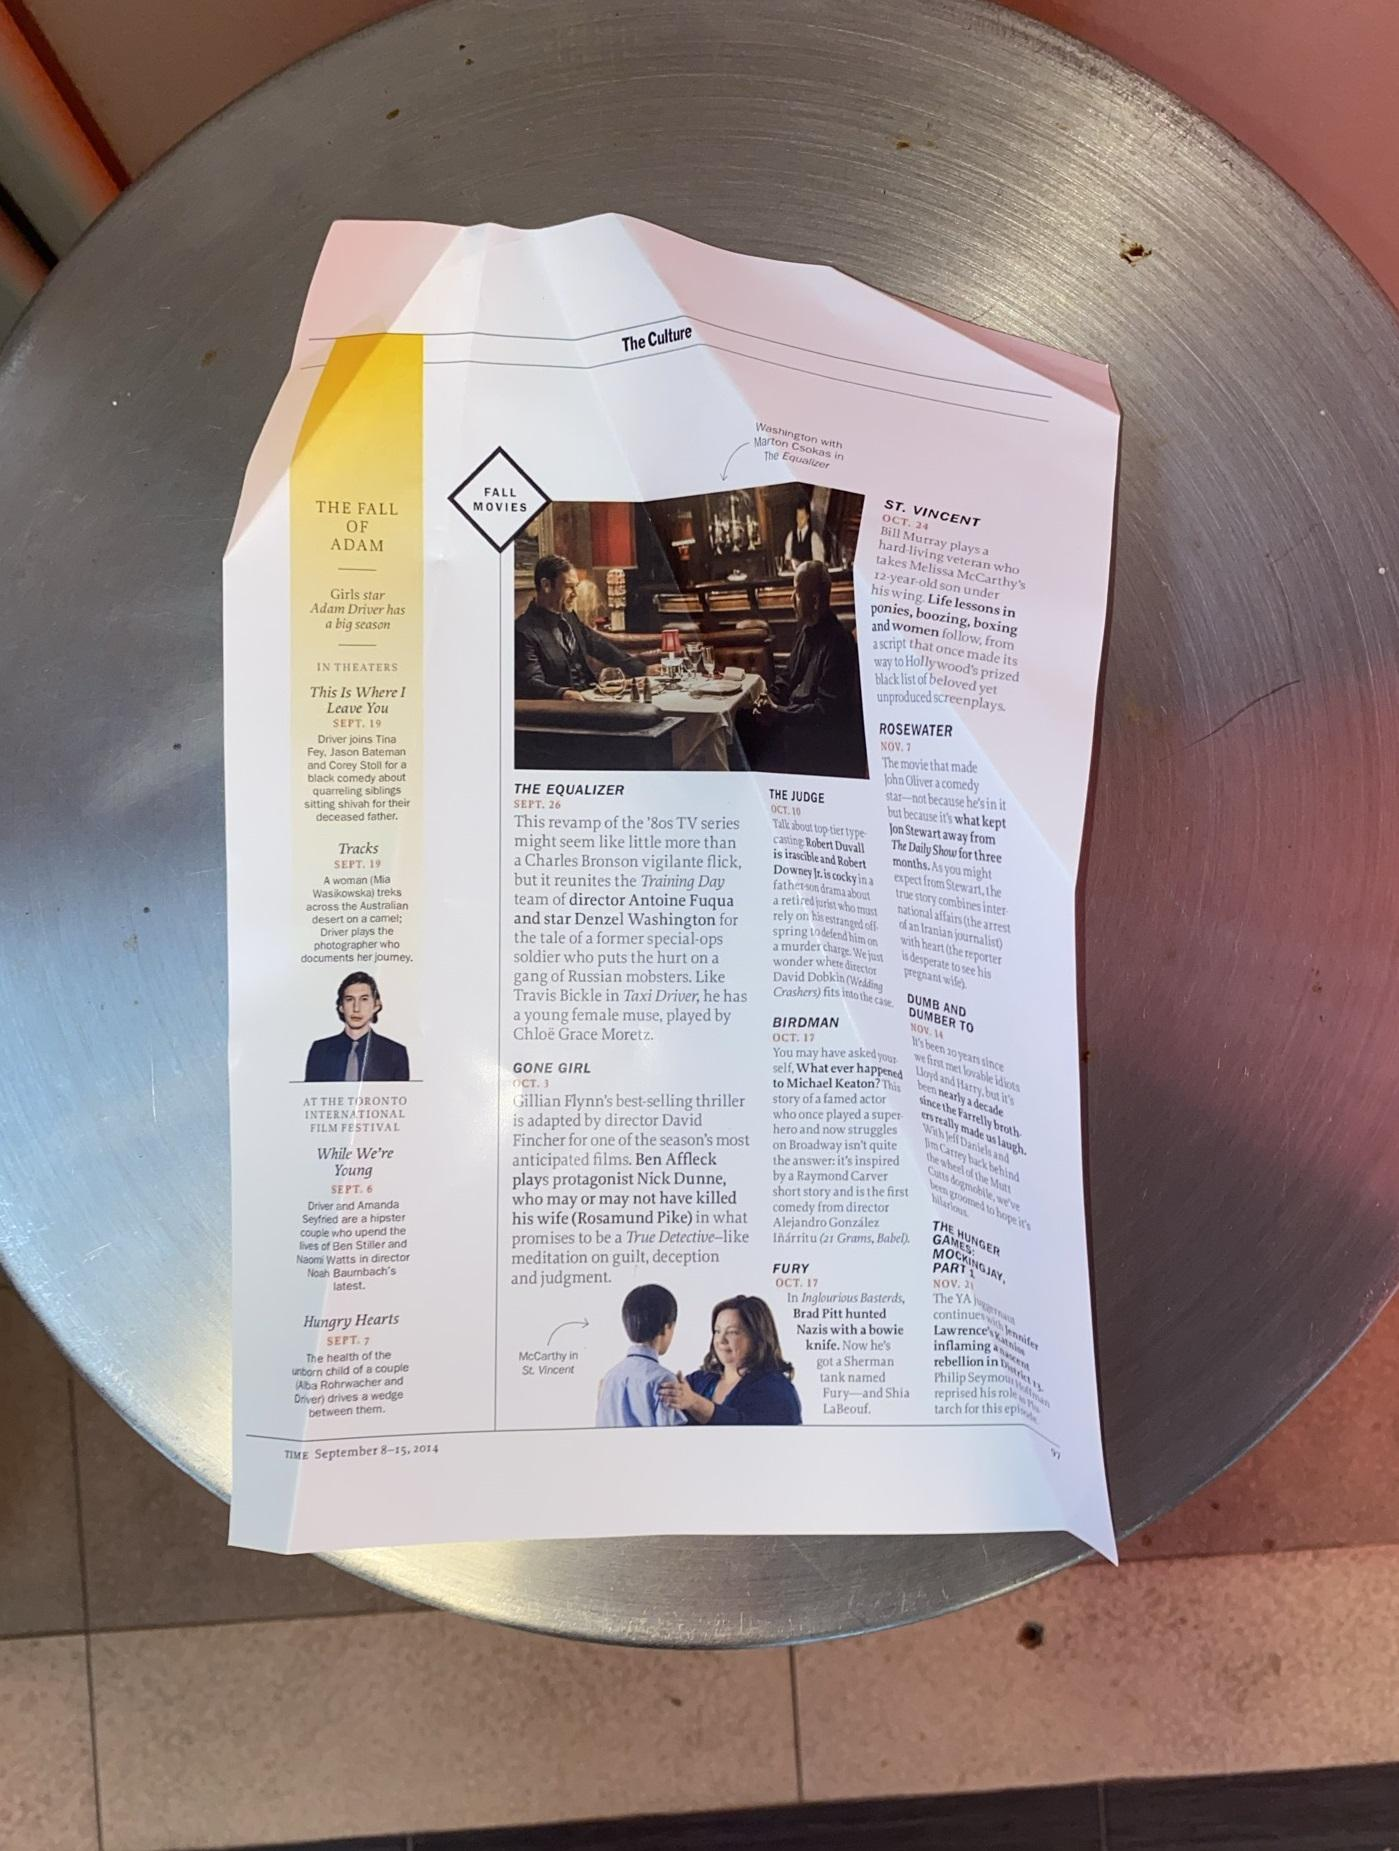paper: (110, 104, 1289, 1647)
